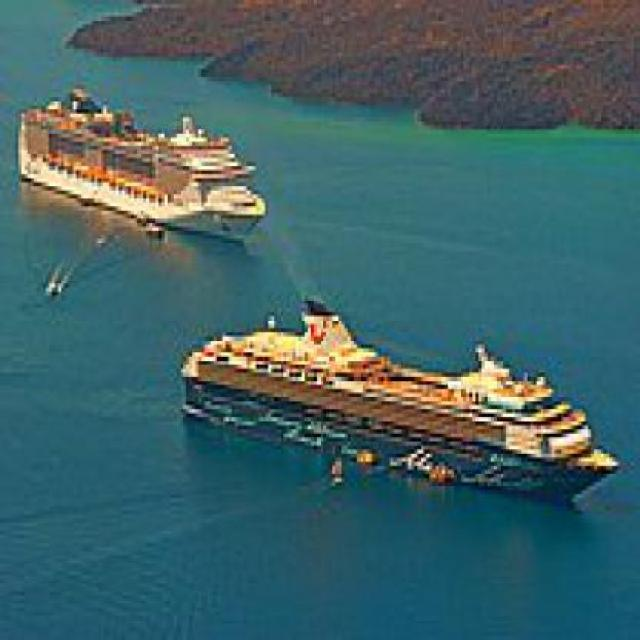cruise: (175, 281, 635, 524), (7, 66, 273, 252)
